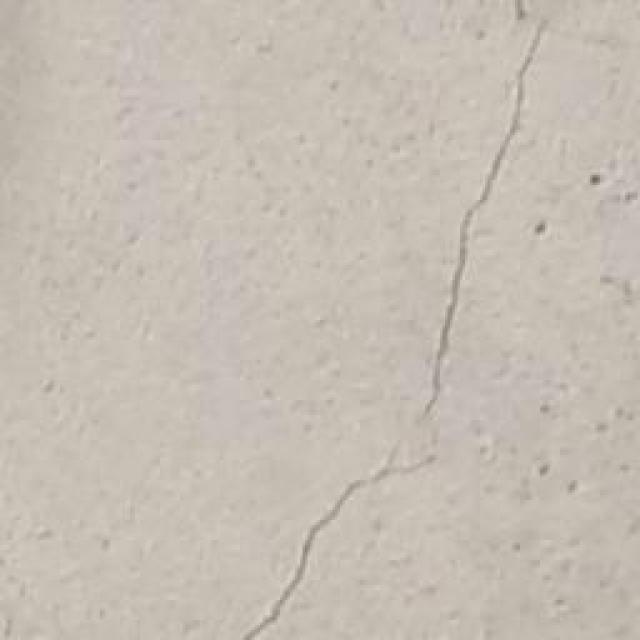concrete-crack: (242, 31, 546, 639)
